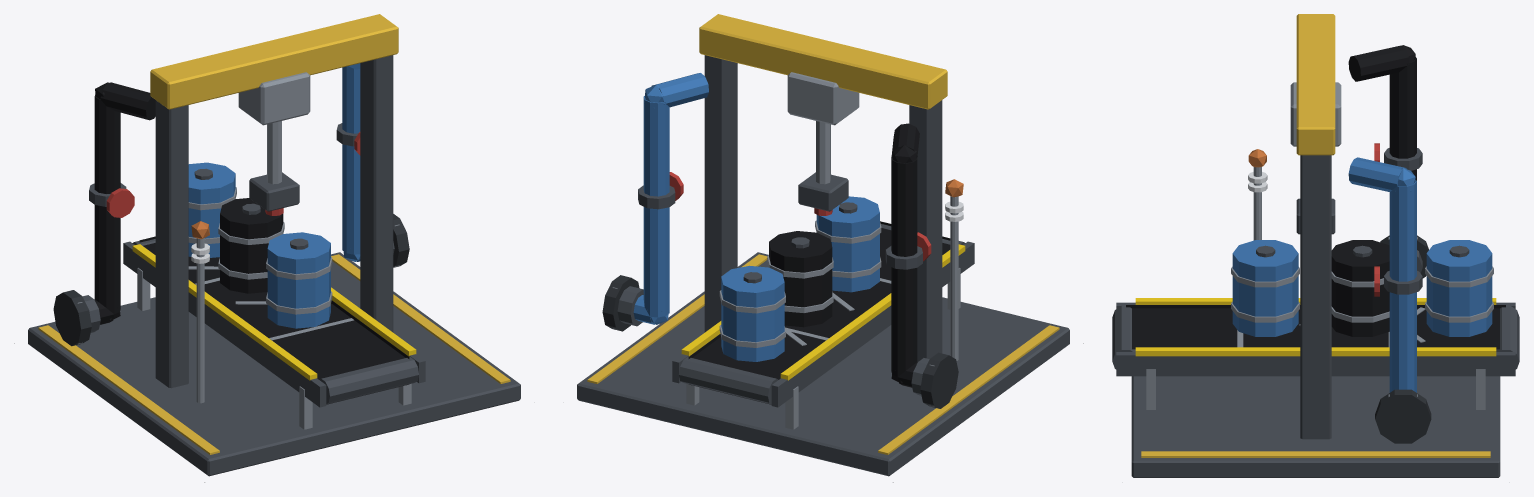
The model's file is remplisseuse_barils.glb.
3 views of the same model, side by side, from view 1: azimuth 30°, elevation 25°; view 2: azimuth 150°, elevation 25°; view 3: azimuth 270°, elevation 25° (orthographic).
Visible parts, largest first — view 1: pieces_acier_sombre.050, pieces_jaune.010, pieces_noir.012, barils_bleu.002, pieces_acier.044, barils_noir.002, pieces_bleu.006, pieces_rive_t1.016, barils_acier.002, pieces_fonte.008, buse_acier_sombre.002, buse_acier.002 (+2 smaller); view 2: pieces_acier_sombre.050, pieces_jaune.010, pieces_noir.012, barils_bleu.002, pieces_bleu.006, pieces_acier.044, barils_noir.002, barils_acier.002, pieces_fonte.008, pieces_rive_t1.016, buse_acier_sombre.002, buse_acier.002 (+1 smaller); view 3: pieces_acier_sombre.050, pieces_noir.012, barils_bleu.002, pieces_jaune.010, pieces_bleu.006, barils_noir.002, pieces_rive_t1.016, pieces_fonte.008, barils_acier.002, pieces_acier.044, barils_acier_sombre.002.
Part boxes in pixels (x1,y1,x2,y2): pieces_acier_sombre.050: (28,55,520,476); pieces_jaune.010: (38,14,510,454); pieces_noir.012: (94,82,409,404); barils_bleu.002: (188,162,330,328); pieces_acier.044: (77,72,411,429); barils_noir.002: (220,198,283,293); pieces_bleu.006: (342,63,360,261); pieces_rive_t1.016: (132,244,416,380); barils_acier.002: (188,187,332,314); pieces_fonte.008: (53,214,409,346); buse_acier_sombre.002: (249,172,299,211); buse_acier.002: (267,121,281,184); pieces_acier_sombre.050: (577,55,1069,476); pieces_jaune.010: (587,14,1059,454); pieces_noir.012: (688,123,950,404); barils_bleu.002: (721,196,879,361); pieces_bleu.006: (633,73,708,324); pieces_acier.044: (612,72,960,429); barils_noir.002: (769,231,832,327); barils_acier.002: (719,220,881,347); pieces_fonte.008: (602,275,958,408); pieces_rive_t1.016: (681,244,965,380); buse_acier_sombre.002: (798,172,848,211); buse_acier.002: (816,121,830,184); pieces_acier_sombre.050: (1112,148,1519,477); pieces_noir.012: (1126,45,1505,349); barils_bleu.002: (1232,240,1492,336); pieces_jaune.010: (1141,14,1490,457); pieces_bleu.006: (1348,157,1416,392); barils_noir.002: (1331,240,1389,336); pieces_rive_t1.016: (1135,298,1496,356); pieces_fonte.008: (1375,235,1431,443); barils_acier.002: (1231,266,1493,342); pieces_acier.044: (1146,82,1485,409); barils_acier_sombre.002: (1256,245,1469,257).
Bounding box in the file's own units: 1 × 0.94 × 1.05.
